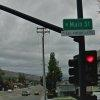Traffic light: (61, 38, 100, 100)
